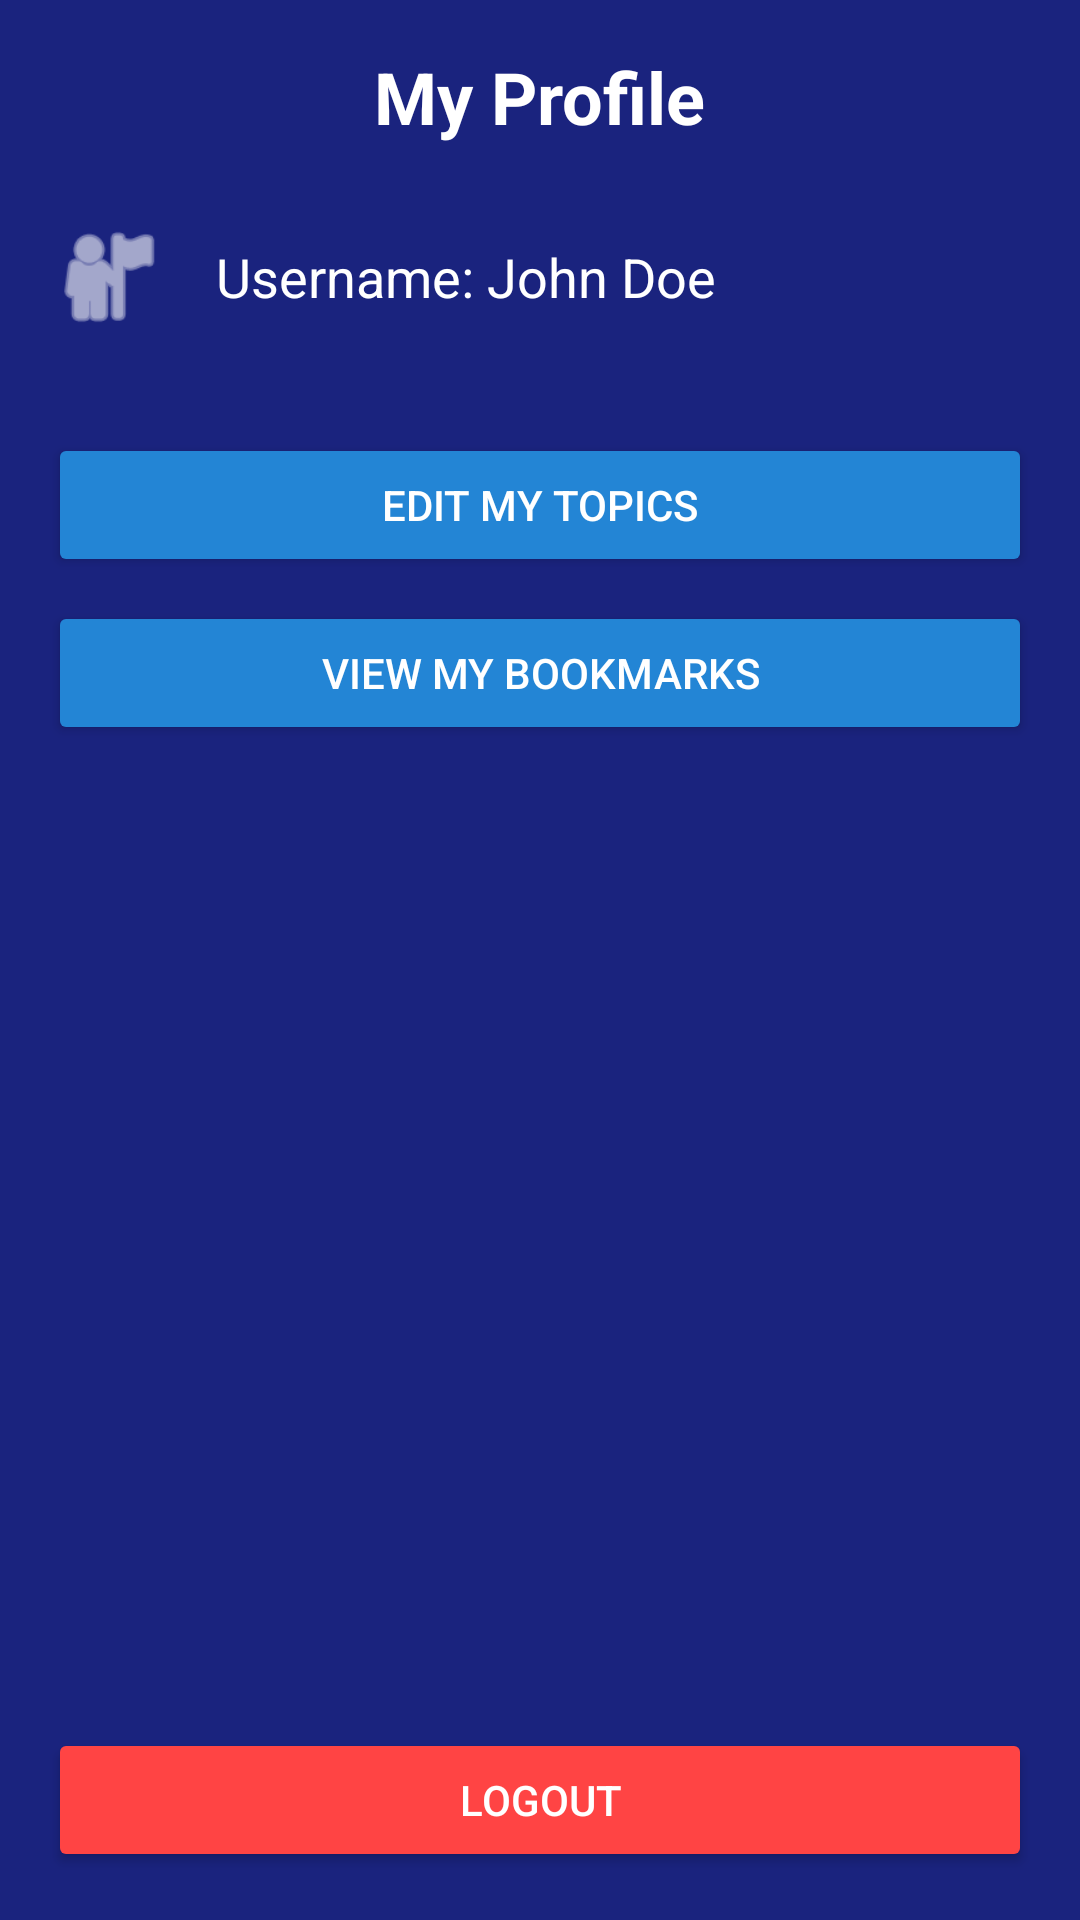

Point at icon controls on the screen. Image size 1080px x 1920px, points as (x,y).
Profile icon: (109,277)
